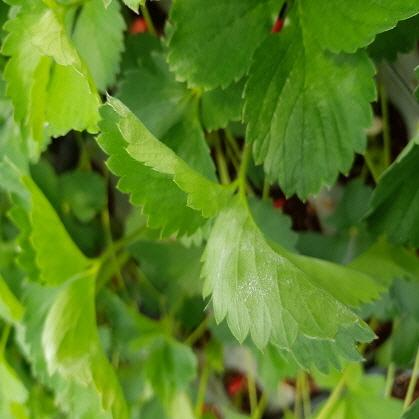Powdery Mildew Leaf: (197, 183, 379, 377), (93, 88, 239, 241)
